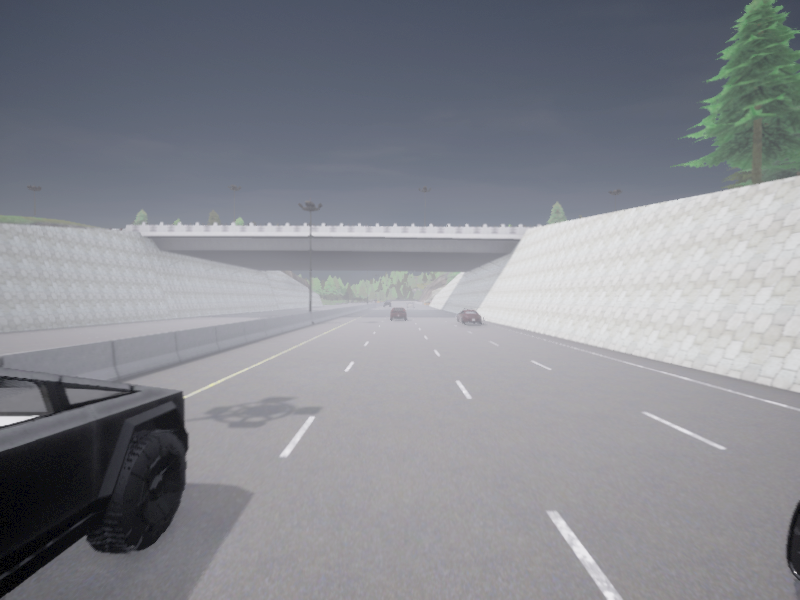vehicle: (0, 367, 187, 598), (786, 499, 799, 580), (457, 309, 481, 324), (390, 307, 406, 319), (384, 301, 391, 306), (407, 302, 413, 307)
